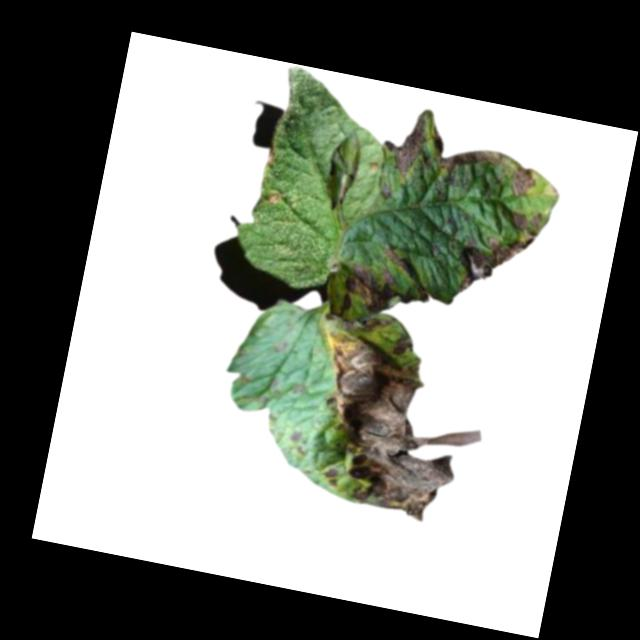Early_blight: (301, 310, 502, 529), (449, 195, 547, 305), (336, 236, 435, 324), (423, 127, 507, 184), (379, 106, 431, 180), (507, 163, 540, 202), (263, 188, 284, 205), (264, 146, 276, 166), (379, 184, 393, 199)
